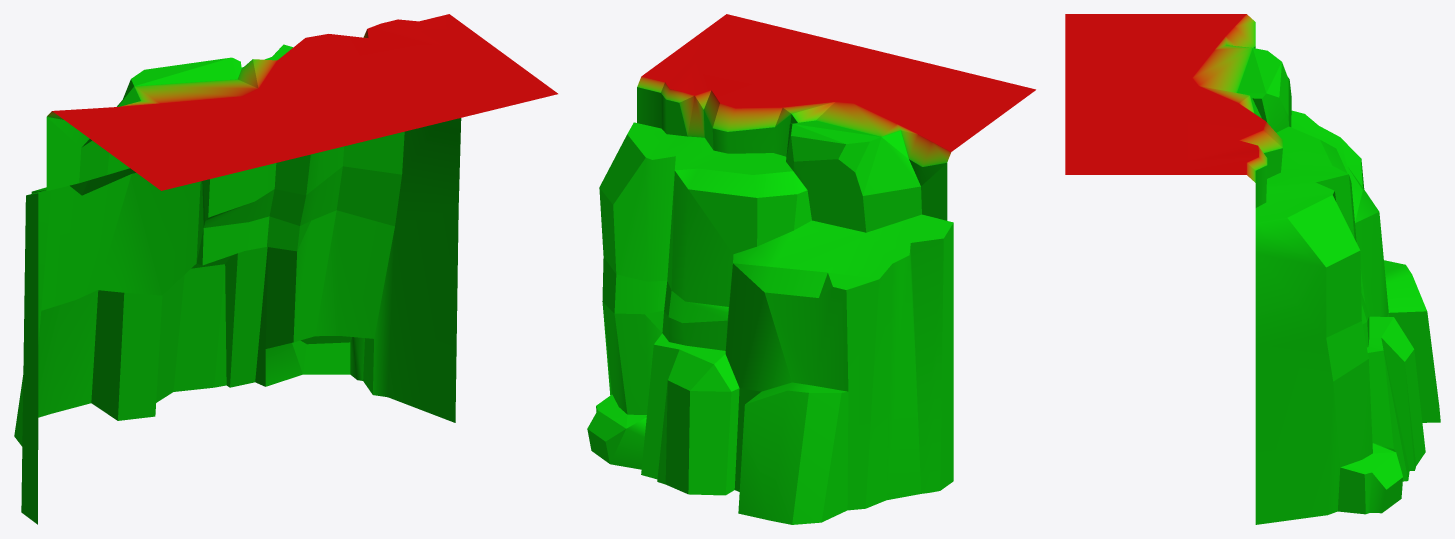
Rendered from Cliff_Edge_A.fbx.
The picture shows the model from 3 angles, left to right: view 1: azimuth 30°, elevation 25°; view 2: azimuth 150°, elevation 25°; view 3: azimuth 270°, elevation 25°; orthographic projection. The views are drawn at different scales.
Visible parts, largest first — view 1: cliff_edge_A; view 2: cliff_edge_A; view 3: cliff_edge_A.
Part boxes in pixels (bbox=[...]): cliff_edge_A: bbox=[14, 14, 557, 524]; cliff_edge_A: bbox=[587, 14, 1035, 524]; cliff_edge_A: bbox=[1065, 14, 1440, 524].
Bounding box in the file's own units: 213 × 197 × 201.
